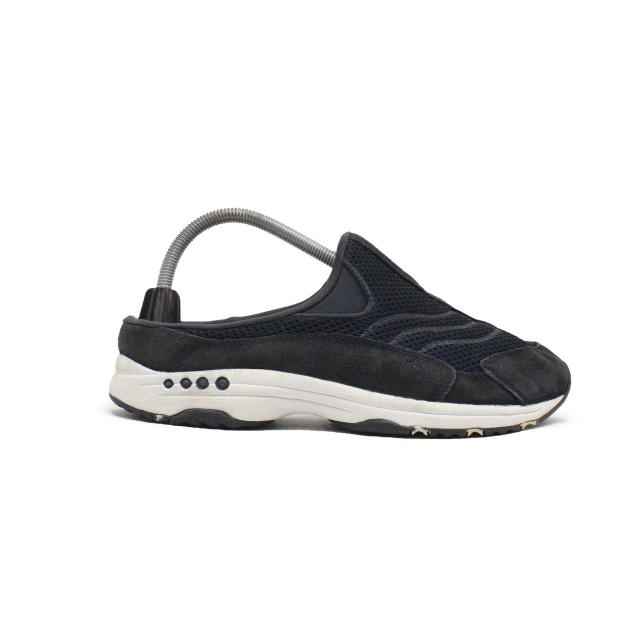heel: (116, 313, 183, 375)
midsole: (107, 348, 566, 437)
uppersole: (169, 232, 575, 401)
